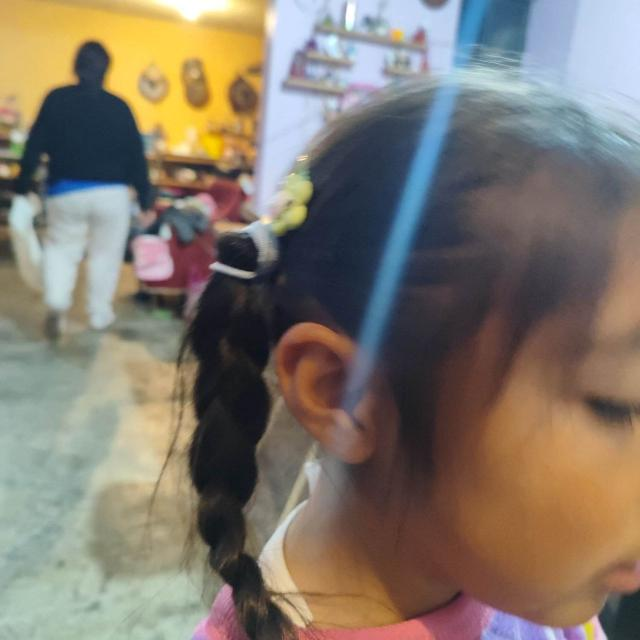ear: (275, 322, 376, 464)
